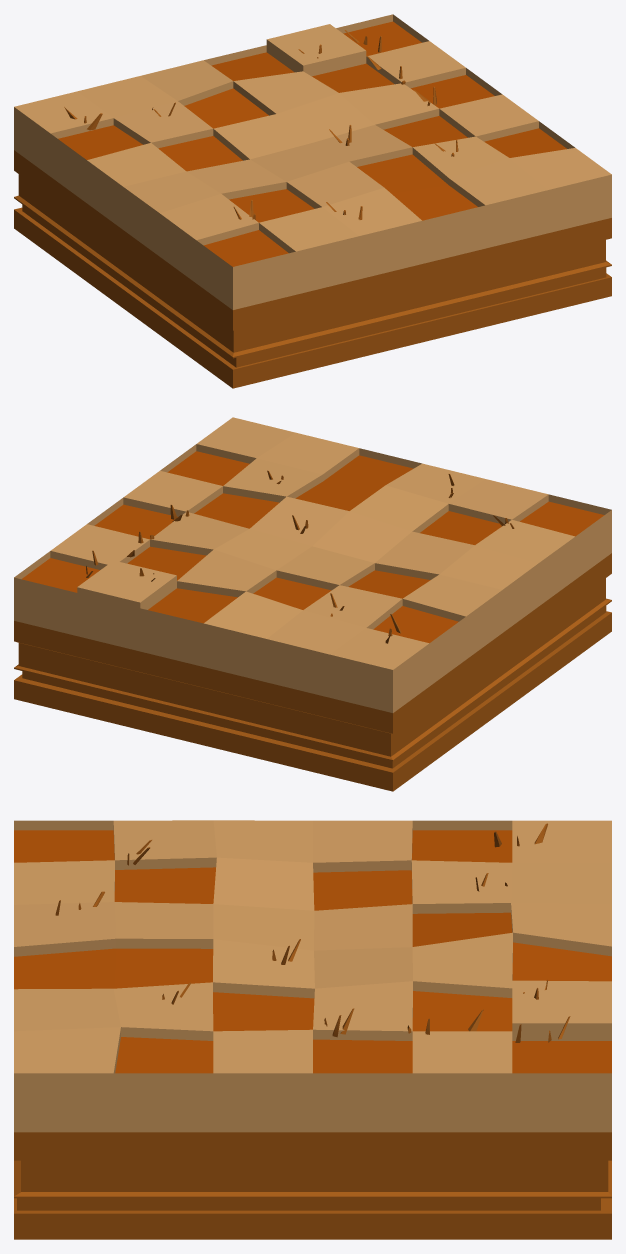
The model's file is Gator Siege_landbrown2.fbx.
The picture shows the model from 3 angles, top to bottom: view 1: azimuth 30°, elevation 25°; view 2: azimuth 150°, elevation 25°; view 3: azimuth 270°, elevation 25°; orthographic projection. The views are drawn at different scales.
Visible parts, largest first — view 1: land_brown2; view 2: land_brown2; view 3: land_brown2.
Part boxes in pixels (left/top/right/bottom): land_brown2: left=14, top=14, right=611, bottom=388; land_brown2: left=14, top=417, right=611, bottom=791; land_brown2: left=14, top=820, right=611, bottom=1239.
Size of the model in its own units: 0.345 by 0.3449 by 0.1188.
